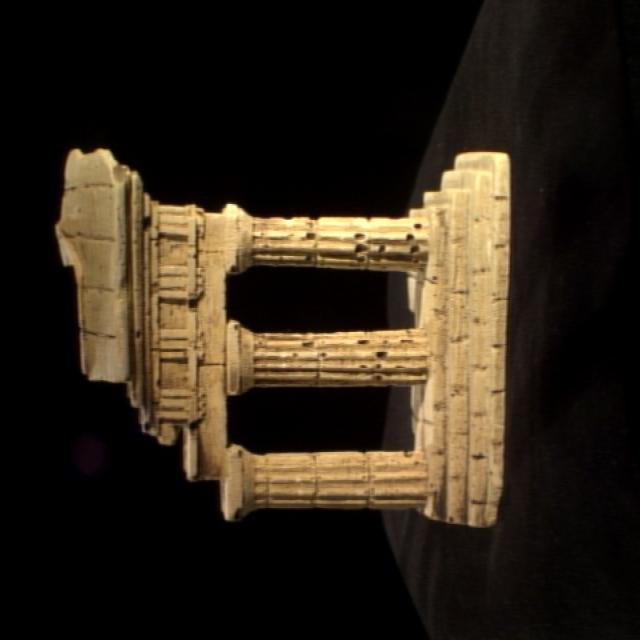Instance-Segmentation: (56, 149, 510, 523)
